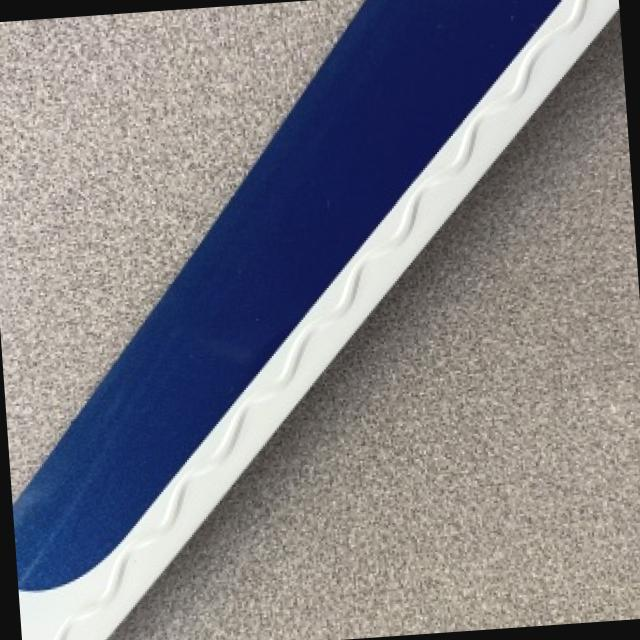healthy: (12, 0, 617, 640)
